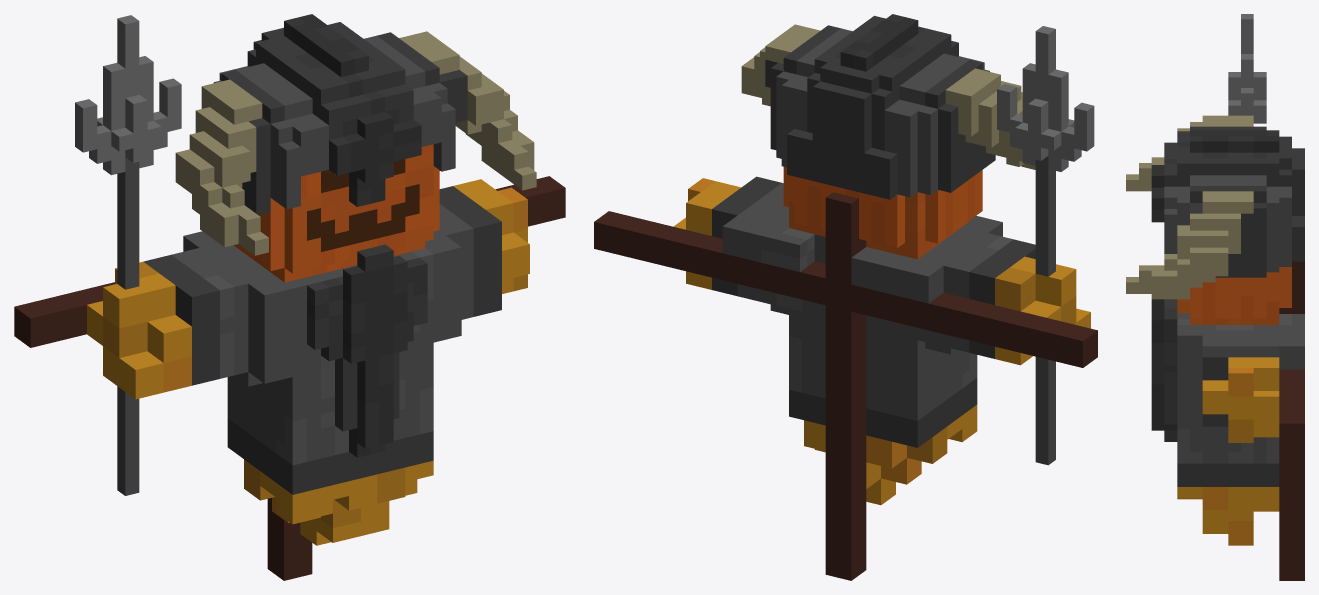
The model's file is scarecrow_3-0-carrot_1.obj.
The picture shows the model from 3 angles, left to right: view 1: azimuth 30°, elevation 25°; view 2: azimuth 150°, elevation 25°; view 3: azimuth 270°, elevation 25°; orthographic projection. The views are drawn at different scales.
Parts seen in each view (by area): view 1: carrot_1; view 2: carrot_1; view 3: carrot_1.
Boxes of the visible parts, x1=… form: carrot_1: x1=14, y1=14, x2=565, y2=580; carrot_1: x1=594, y1=14, x2=1097, y2=580; carrot_1: x1=1126, y1=14, x2=1304, y2=580.
Bounding box in the file's own units: 3.8 × 4.2 × 1.4.
Materials: 1 (1 with a texture image).
